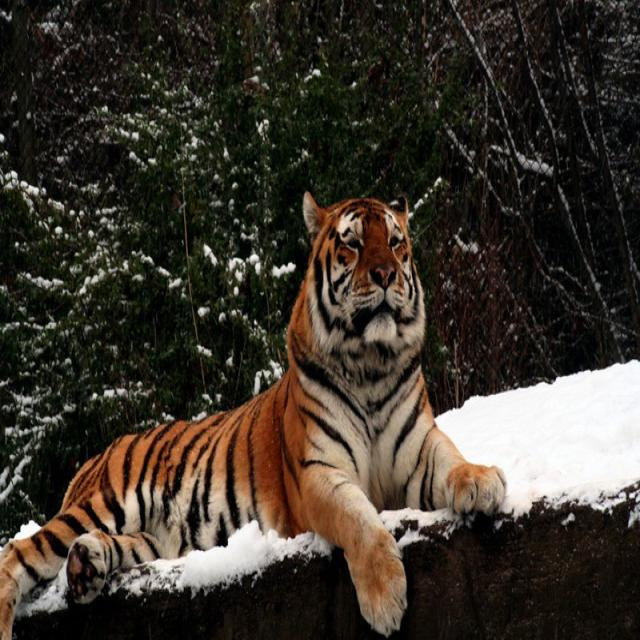Tiger: (0, 187, 506, 639)
